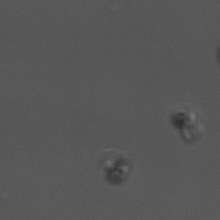Dead Cell: (97, 150, 137, 188), (168, 107, 202, 146)
